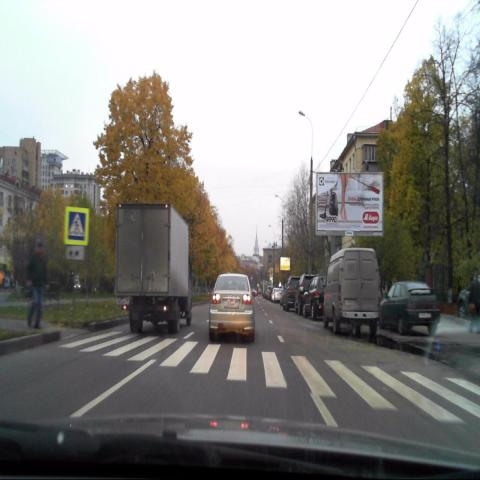5_19_1: (65, 207, 87, 245)
